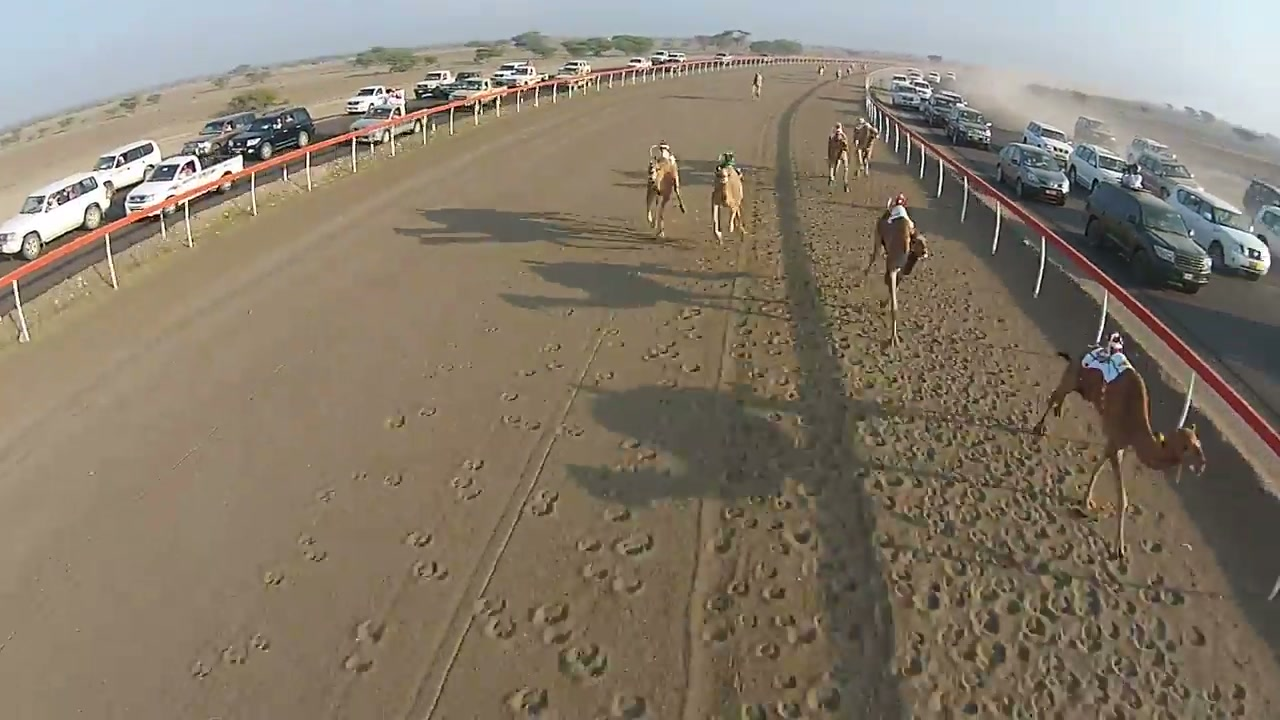animal_foot_print: (468, 294, 1265, 717), (799, 191, 1211, 716), (436, 250, 843, 719), (893, 488, 1185, 713), (438, 473, 674, 719), (501, 473, 669, 717), (701, 482, 831, 687), (699, 496, 822, 666), (261, 471, 367, 603), (574, 506, 654, 597), (190, 633, 270, 679), (401, 529, 449, 583), (342, 619, 386, 673), (559, 642, 608, 680), (529, 602, 573, 644), (475, 596, 516, 639), (451, 458, 485, 502), (507, 686, 549, 719), (620, 438, 658, 467), (613, 531, 653, 557), (609, 693, 647, 719), (530, 602, 570, 626), (422, 362, 474, 380), (298, 533, 327, 562), (611, 570, 644, 595), (528, 489, 558, 516), (410, 560, 448, 581), (702, 619, 732, 645), (354, 619, 385, 644), (483, 615, 515, 639), (642, 341, 680, 361), (786, 622, 819, 645), (580, 562, 613, 584), (501, 413, 541, 431), (474, 596, 506, 616), (343, 652, 373, 673), (541, 343, 564, 370), (772, 699, 803, 719), (220, 643, 247, 665), (704, 593, 732, 614), (602, 327, 626, 350), (735, 703, 769, 719), (404, 530, 434, 548), (604, 505, 631, 522), (772, 672, 798, 689), (756, 641, 780, 659), (726, 579, 751, 596), (576, 536, 602, 552), (456, 485, 481, 501), (450, 475, 475, 491), (190, 659, 211, 678), (263, 569, 285, 587), (249, 633, 270, 651), (385, 413, 407, 430), (681, 325, 704, 341), (557, 424, 585, 437), (382, 472, 405, 487), (676, 307, 702, 320), (593, 370, 614, 386), (315, 488, 336, 503), (462, 458, 484, 471), (521, 419, 541, 431), (350, 470, 368, 483), (297, 533, 315, 546), (658, 378, 679, 389), (501, 414, 522, 425), (417, 406, 437, 417), (620, 438, 640, 449), (544, 360, 564, 370), (501, 391, 519, 402), (518, 368, 537, 377), (542, 343, 561, 352), (563, 308, 574, 316), (484, 326, 498, 332)
